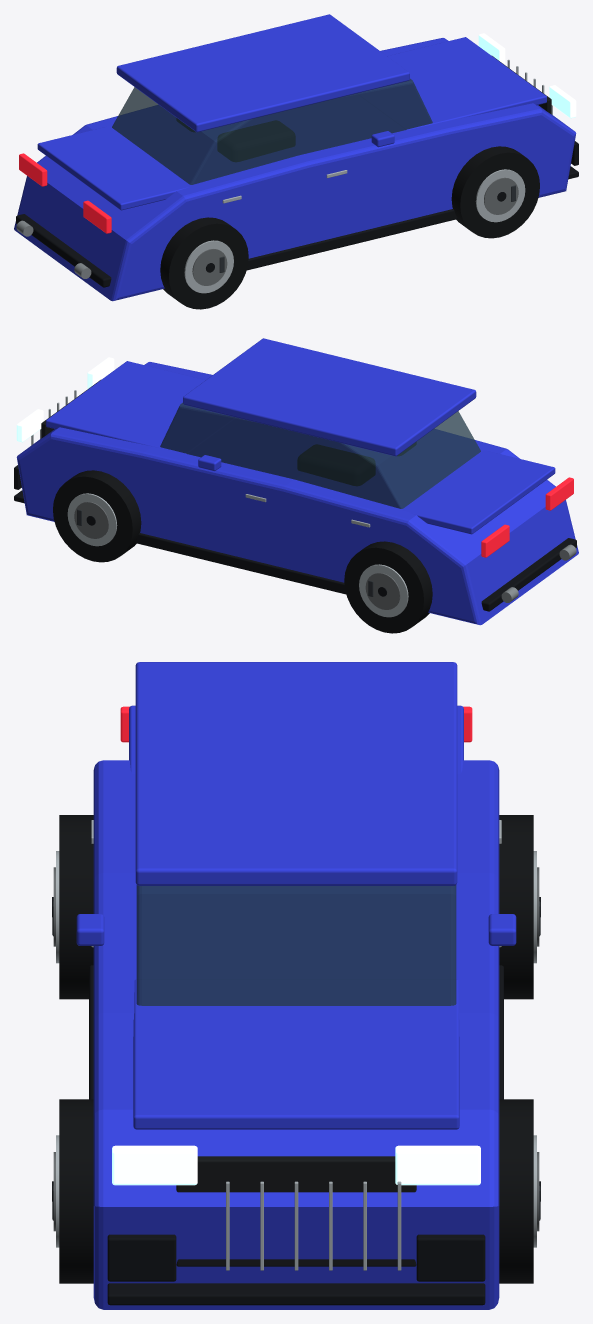
File: ford_taurus_x.glb
3 views of the same model, one above another, from view 1: azimuth 30°, elevation 25°; view 2: azimuth 150°, elevation 25°; view 3: azimuth 270°, elevation 25° (orthographic). The views are drawn at different scales.
Parts seen in each view (by area): view 1: sculpted_body, roof, glasshouse, hood_center, rear_deck, rear_right_wheel_tire, front_right_wheel_tire, side_skirt_1, seat_1, rear_diffuser, rear_right_wheel_rim, front_right_wheel_rim (+6 smaller); view 2: sculpted_body, roof, glasshouse, hood_center, rear_deck, rear_left_wheel_tire, front_left_wheel_tire, side_skirt_-1, seat_-1, rear_diffuser, rear_left_wheel_rim, front_left_wheel_rim (+6 smaller); view 3: sculpted_body, roof, hood_center, glasshouse, front_grille, front_splitter, front_left_wheel_tire, front_right_wheel_tire, rear_left_wheel_tire, rear_right_wheel_tire, headlight_right, headlight_left (+5 smaller).
Boxes of the visible parts, x1,y1,x2,y2 form: sculpted_body: [14, 38, 576, 301]; roof: [116, 14, 409, 132]; glasshouse: [112, 78, 432, 184]; hood_center: [358, 37, 546, 129]; rear_deck: [37, 126, 190, 210]; rear_right_wheel_tire: [160, 217, 248, 309]; front_right_wheel_tire: [451, 146, 539, 238]; side_skirt_1: [246, 209, 457, 270]; seat_1: [218, 121, 294, 161]; rear_diffuser: [16, 214, 111, 287]; rear_right_wheel_rim: [184, 240, 233, 293]; front_right_wheel_rim: [475, 169, 525, 222]; sculpted_body: [16, 362, 578, 625]; roof: [183, 338, 476, 456]; glasshouse: [160, 402, 480, 508]; hood_center: [46, 361, 234, 453]; rear_deck: [402, 450, 555, 534]; rear_left_wheel_tire: [344, 541, 432, 633]; front_left_wheel_tire: [53, 470, 141, 562]; side_skirt_-1: [135, 533, 346, 594]; seat_-1: [298, 445, 374, 485]; rear_diffuser: [481, 538, 576, 611]; rear_left_wheel_rim: [359, 564, 408, 617]; front_left_wheel_rim: [67, 493, 117, 546]; sculpted_body: [93, 760, 499, 1309]; roof: [135, 662, 457, 885]; hood_center: [133, 979, 459, 1129]; glasshouse: [136, 885, 456, 1005]; front_grille: [176, 1156, 416, 1266]; front_splitter: [107, 1283, 485, 1305]; front_left_wheel_tire: [499, 1099, 533, 1283]; front_right_wheel_tire: [59, 1099, 93, 1283]; rear_left_wheel_tire: [499, 815, 533, 999]; rear_right_wheel_tire: [59, 815, 93, 999]; headlight_right: [112, 1145, 197, 1185]; headlight_left: [395, 1145, 480, 1185].
Bounding box in the file's own units: 5.24 × 1.73 × 2.28.
